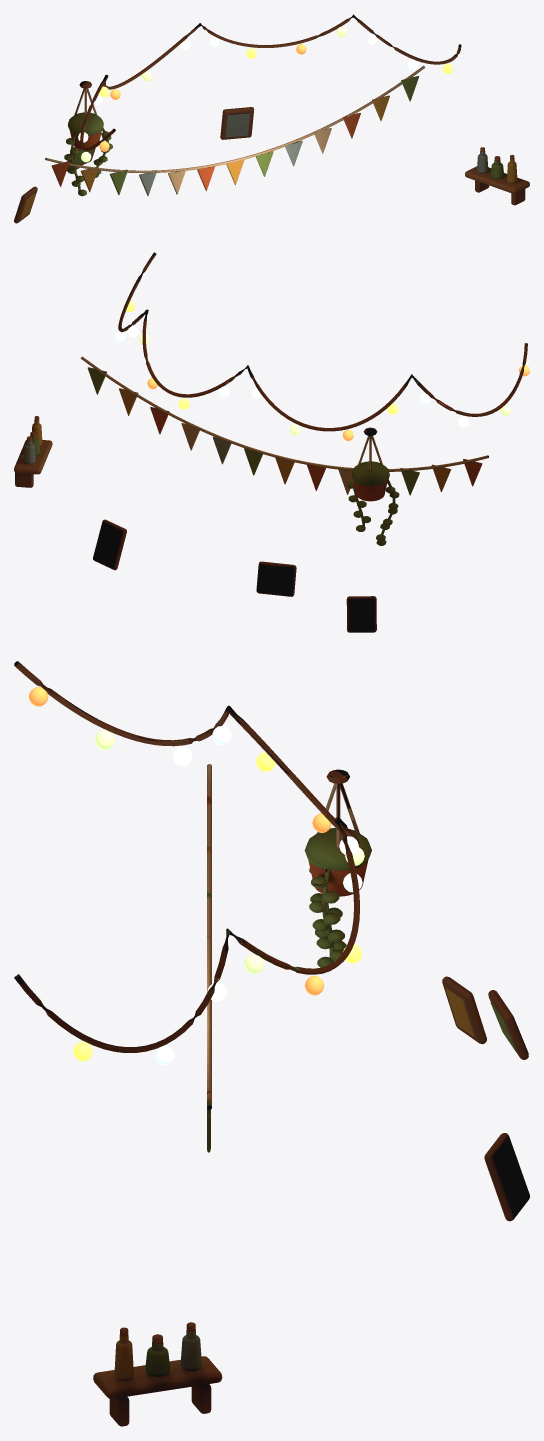
File: room_deco.glb
3 renders of one model, top to bottom at view 1: azimuth 30°, elevation 25°; view 2: azimuth 150°, elevation 25°; view 3: azimuth 270°, elevation 25°, orthographic. The views are drawn at different scales.
Visible parts, largest first — view 1: bunting, string_lights_wire, bunting_string, shelf, shelf_board, hanging_plant_foliage, frame_01_picture, frame_01_border, hanging_plant, hanging_plant_vine_01_leaves, frame_03_border, string_lights_bulbs_orange (+4 smaller); view 2: bunting, string_lights_wire, bunting_string, frame_02_border, frame_01_border, frame_03_border, hanging_plant_foliage, shelf, shelf_board, hanging_plant, hanging_plant_pot; view 3: string_lights_wire, shelf, shelf_board, frame_01_border, bunting_string, hanging_plant_foliage, hanging_plant_vine_02_leaves, frame_03_border, hanging_plant, string_lights_bulbs_orange.
Part boxes in pixels (x1=…): bunting: x1=51, y1=76, x2=418, y2=195; string_lights_wire: x1=80, y1=14, x2=461, y2=150; bunting_string: x1=45, y1=65, x2=425, y2=172; shelf: x1=475, y1=154, x2=525, y2=205; shelf_board: x1=465, y1=166, x2=529, y2=193; hanging_plant_foliage: x1=68, y1=112, x2=103, y2=135; frame_01_picture: x1=225, y1=113, x2=250, y2=137; frame_01_border: x1=220, y1=107, x2=254, y2=139; hanging_plant: x1=70, y1=88, x2=108, y2=190; hanging_plant_vine_01_leaves: x1=64, y1=138, x2=86, y2=196; frame_03_border: x1=14, y1=186, x2=37, y2=223; string_lights_bulbs_orange: x1=99, y1=44, x2=306, y2=151; bunting: x1=87, y1=367, x2=482, y2=495; string_lights_wire: x1=118, y1=252, x2=527, y2=431; bunting_string: x1=80, y1=356, x2=488, y2=471; frame_02_border: x1=256, y1=561, x2=296, y2=596; frame_01_border: x1=93, y1=519, x2=126, y2=570; frame_03_border: x1=346, y1=596, x2=376, y2=632; hanging_plant_foliage: x1=351, y1=461, x2=389, y2=486; shelf: x1=15, y1=423, x2=42, y2=487; shelf_board: x1=14, y1=439, x2=52, y2=474; hanging_plant: x1=353, y1=435, x2=395, y2=544; hanging_plant_pot: x1=353, y1=481, x2=387, y2=501; string_lights_wire: x1=14, y1=661, x2=359, y2=1052; shelf: x1=109, y1=1335, x2=211, y2=1426; shelf_board: x1=93, y1=1356, x2=222, y2=1398; frame_01_border: x1=484, y1=1133, x2=529, y2=1221; bunting_string: x1=207, y1=764, x2=211, y2=1109; hanging_plant_foliage: x1=304, y1=828, x2=371, y2=870; hanging_plant_vine_02_leaves: x1=309, y1=876, x2=344, y2=961; frame_03_border: x1=442, y1=976, x2=486, y2=1044; hanging_plant: x1=317, y1=783, x2=359, y2=961; string_lights_bulbs_orange: x1=28, y1=687, x2=331, y2=995.
Size of the model in its own units: 4.93 by 2.06 by 2.6.
Materials: 6 (1 with a texture image).
